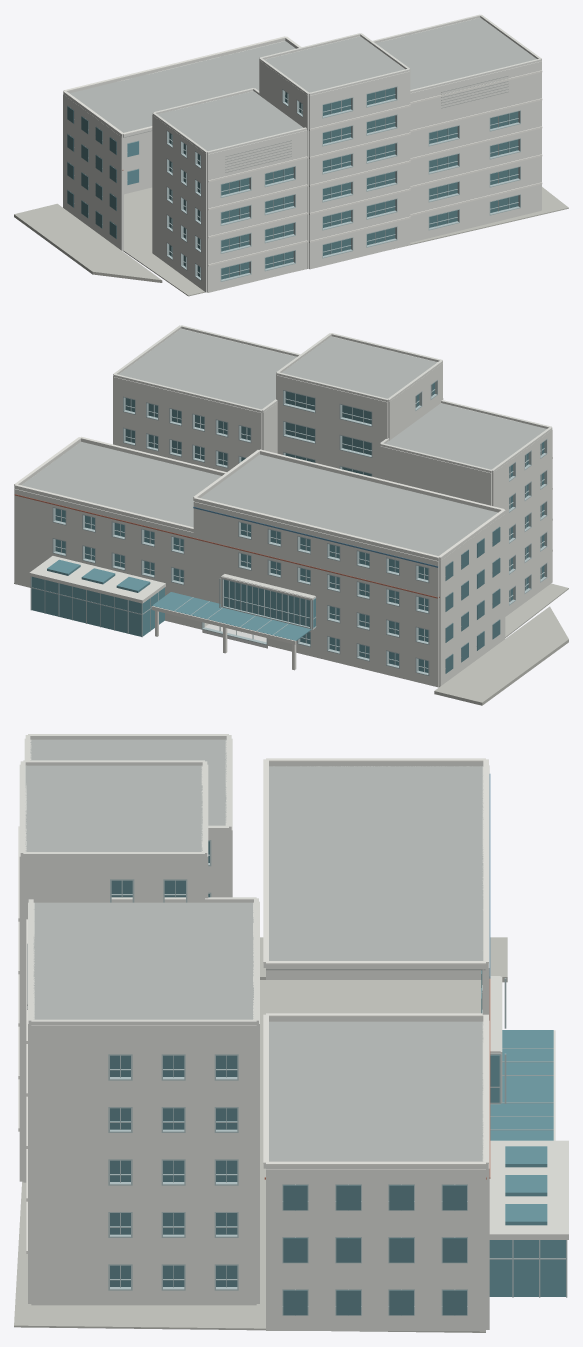
The picture shows the model from 3 angles, top to bottom: view 1: azimuth 30°, elevation 25°; view 2: azimuth 150°, elevation 25°; view 3: azimuth 270°, elevation 25°; orthographic projection. The views are drawn at different scales.
Parts seen in each view (by area): view 1: S3 rear-left back wall, S3 rear-central back wall, S3 rear-right back wall, S3 front right flat roof, S3 rear-right sideL wall, S3 rear-left roof, S3 low side -25.8 wall, S3 rear-right roof, S3 east yard paving, S3 rear-central roof, S3 actual outline base, S3 rear-central back recessed glass (+25 smaller); view 2: S3 front right wall, S3 front right flat roof, S3 front left wall, S3 front left flat roof, S3 rear-left roof, S3 rear-left front wall, S3 low side -25.8 wall, S3 rear-right sideL wall, S3 rear-central front wall, S3 rear-right roof, S3 rear-central roof, S3 east yard paving (+37 smaller); view 3: S3 rear-left sideR wall, S3 front right flat roof, S3 front left flat roof, S3 low side 25.8 wall, S3 rear-left roof, S3 actual outline base, S3 rear-central roof, S3 rear-central sideR wall, S3 low side 25.8 recessed glass, S3 rear-left sideR recessed glass, S3 entrance glass canopy, S3 rear-right roof (+24 smaller).
Part boxes in pixels (left/top/right/bottom): S3 rear-left back wall: left=410, top=61, right=541, bottom=242; S3 rear-central back wall: left=309, top=71, right=409, bottom=269; S3 rear-right back wall: left=207, top=130, right=307, bottom=292; S3 front right flat roof: left=70, top=41, right=295, bottom=137; S3 rear-right sideL wall: left=152, top=115, right=207, bottom=292; S3 rear-left roof: left=375, top=17, right=536, bottom=89; S3 low side -25.8 wall: left=63, top=94, right=123, bottom=250; S3 rear-right roof: left=158, top=91, right=303, bottom=150; S3 east yard paving: left=14, top=203, right=162, bottom=282; S3 rear-central roof: left=264, top=36, right=404, bottom=92; S3 actual outline base: left=123, top=187, right=568, bottom=296; S3 rear-central back recessed glass: left=323, top=87, right=395, bottom=255; S3 front right wall: left=193, top=501, right=439, bottom=687; S3 front right flat roof: left=201, top=454, right=497, bottom=555; S3 front left wall: left=14, top=489, right=193, bottom=627; S3 front left flat roof: left=22, top=441, right=221, bottom=527; S3 rear-left roof: left=119, top=329, right=296, bottom=409; S3 rear-left front wall: left=113, top=377, right=262, bottom=471; S3 low side -25.8 wall: left=439, top=514, right=505, bottom=686; S3 rear-right sideL wall: left=492, top=429, right=552, bottom=616; S3 rear-central front wall: left=276, top=375, right=388, bottom=478; S3 rear-right roof: left=385, top=403, right=546, bottom=469; S3 rear-central roof: left=282, top=336, right=436, bottom=398; S3 east yard paving: left=434, top=606, right=568, bottom=705; S3 rear-left sideR wall: left=31, top=1025, right=256, bottom=1305; S3 front right flat roof: left=266, top=766, right=485, bottom=970; S3 front left flat roof: left=269, top=1021, right=483, bottom=1161; S3 low side 25.8 wall: left=266, top=1169, right=485, bottom=1330; S3 rear-left roof: left=33, top=902, right=253, bottom=1019; S3 actual outline base: left=14, top=980, right=485, bottom=1332; S3 rear-central roof: left=25, top=765, right=202, bottom=851; S3 rear-central sideR wall: left=23, top=857, right=204, bottom=1182; S3 low side 25.8 recessed glass: left=283, top=1185, right=466, bottom=1315; S3 rear-left sideR recessed glass: left=110, top=1055, right=237, bottom=1286; S3 entrance glass canopy: left=490, top=1030, right=553, bottom=1140; S3 rear-right roof: left=30, top=739, right=226, bottom=825.
Bounding box in the file's own units: 57.82 × 22.94 × 34.49.
